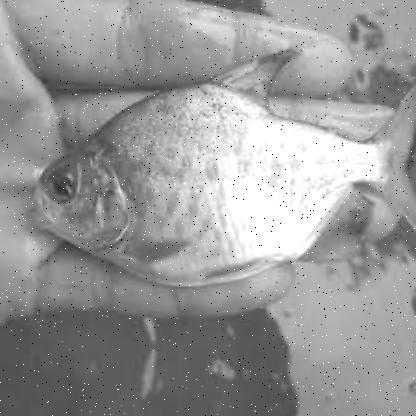ikan-pacu: (31, 74, 409, 284)
